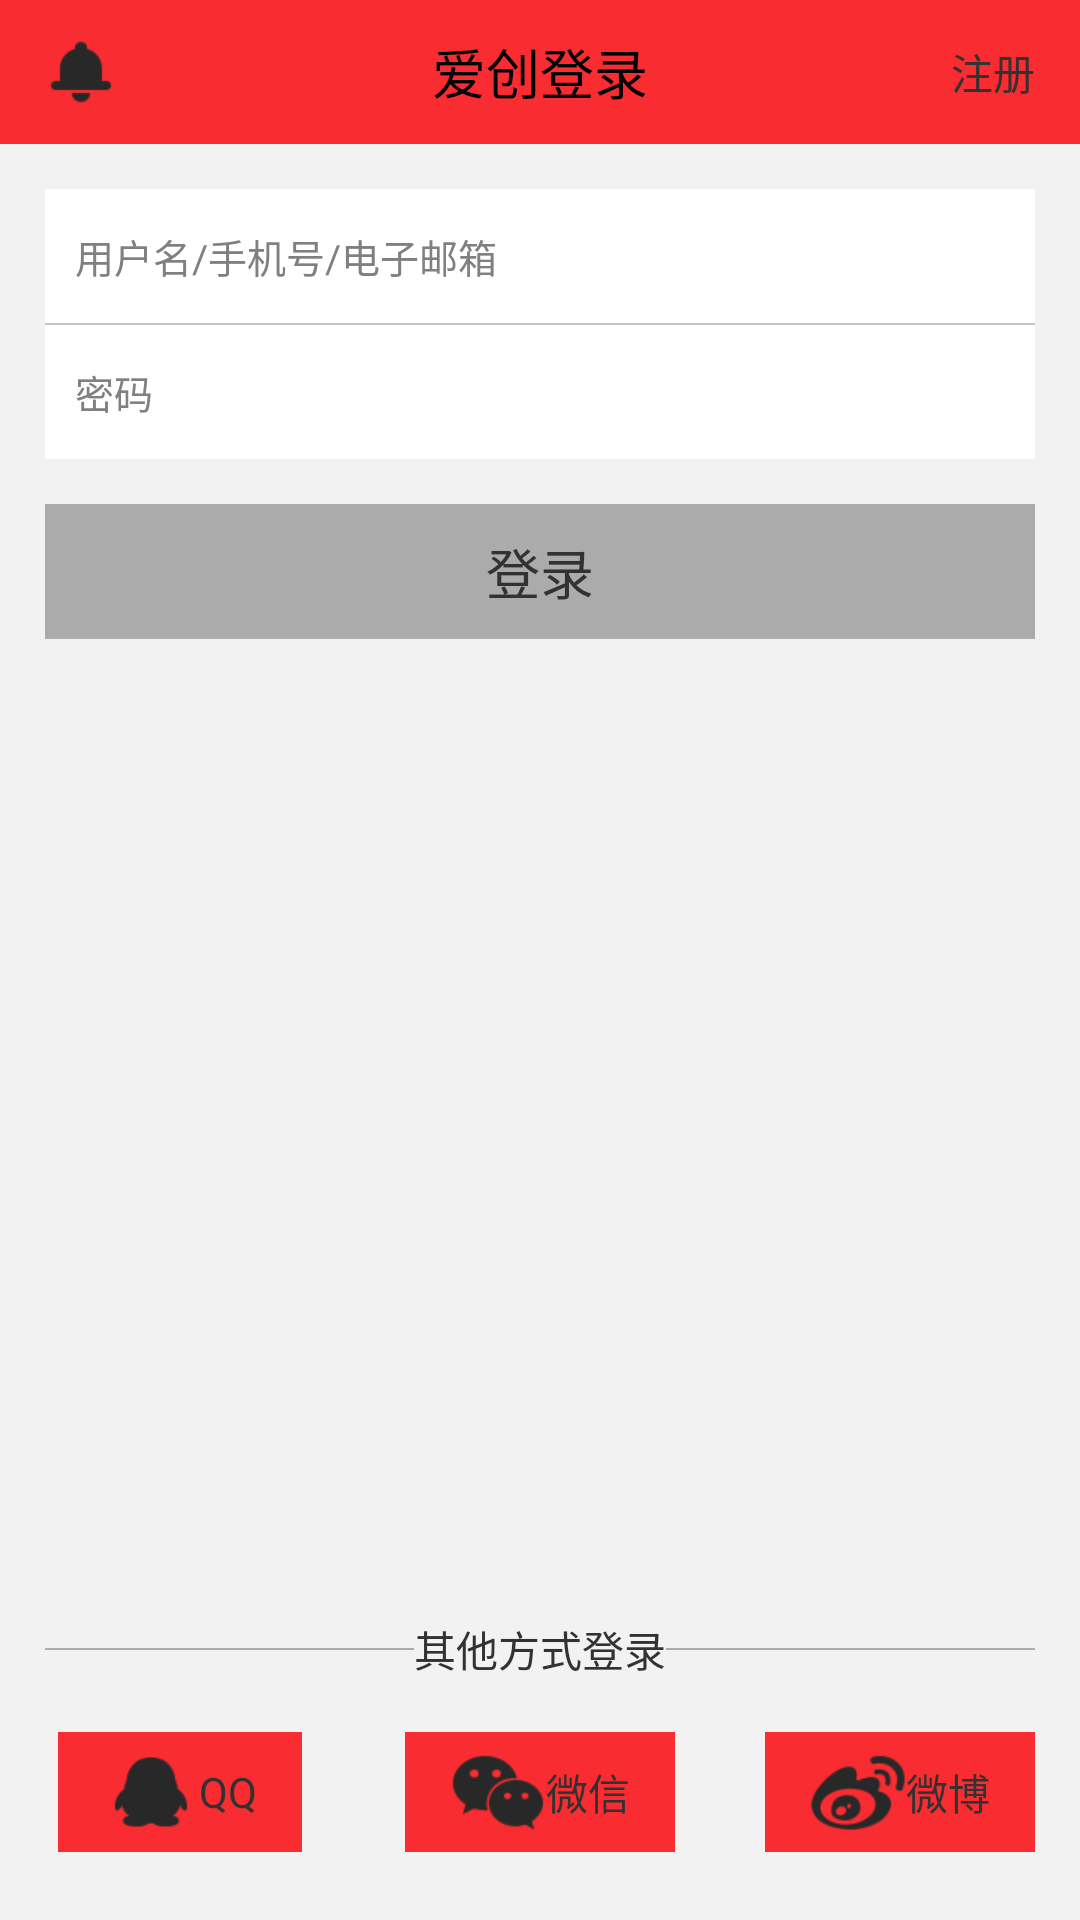

Icons on this 1080*1920 Android screen, each with the point to tap as point (x, y):
zcool bar message: point (81, 72)
